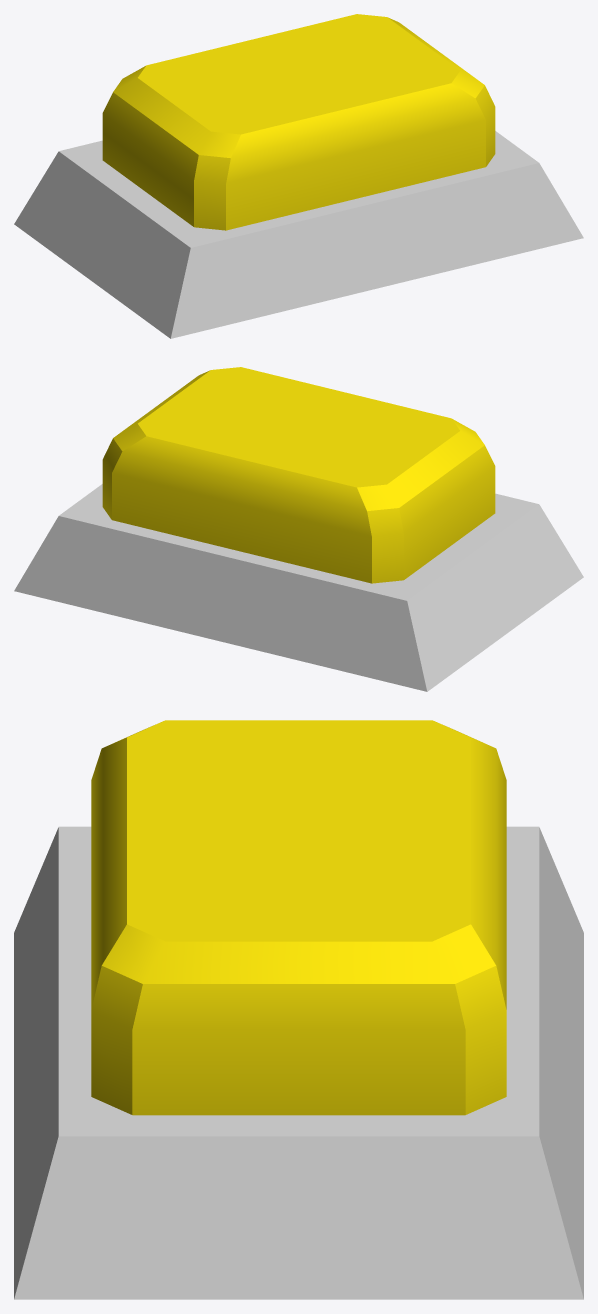
Rendered from LED_2_Yellow.fbx.
3 views of the same model, one above another, from view 1: azimuth 30°, elevation 25°; view 2: azimuth 150°, elevation 25°; view 3: azimuth 270°, elevation 25° (orthographic). The views are drawn at different scales.
Parts seen in each view (by area): view 1: LED_2_Yellow; view 2: LED_2_Yellow; view 3: LED_2_Yellow.
Part boxes in pixels (x1,y1,x2,y2): LED_2_Yellow: (14,14,583,338); LED_2_Yellow: (14,367,583,691); LED_2_Yellow: (14,720,583,1299).
Size of the model in its own units: 33.04 by 11.99 by 21.7.
